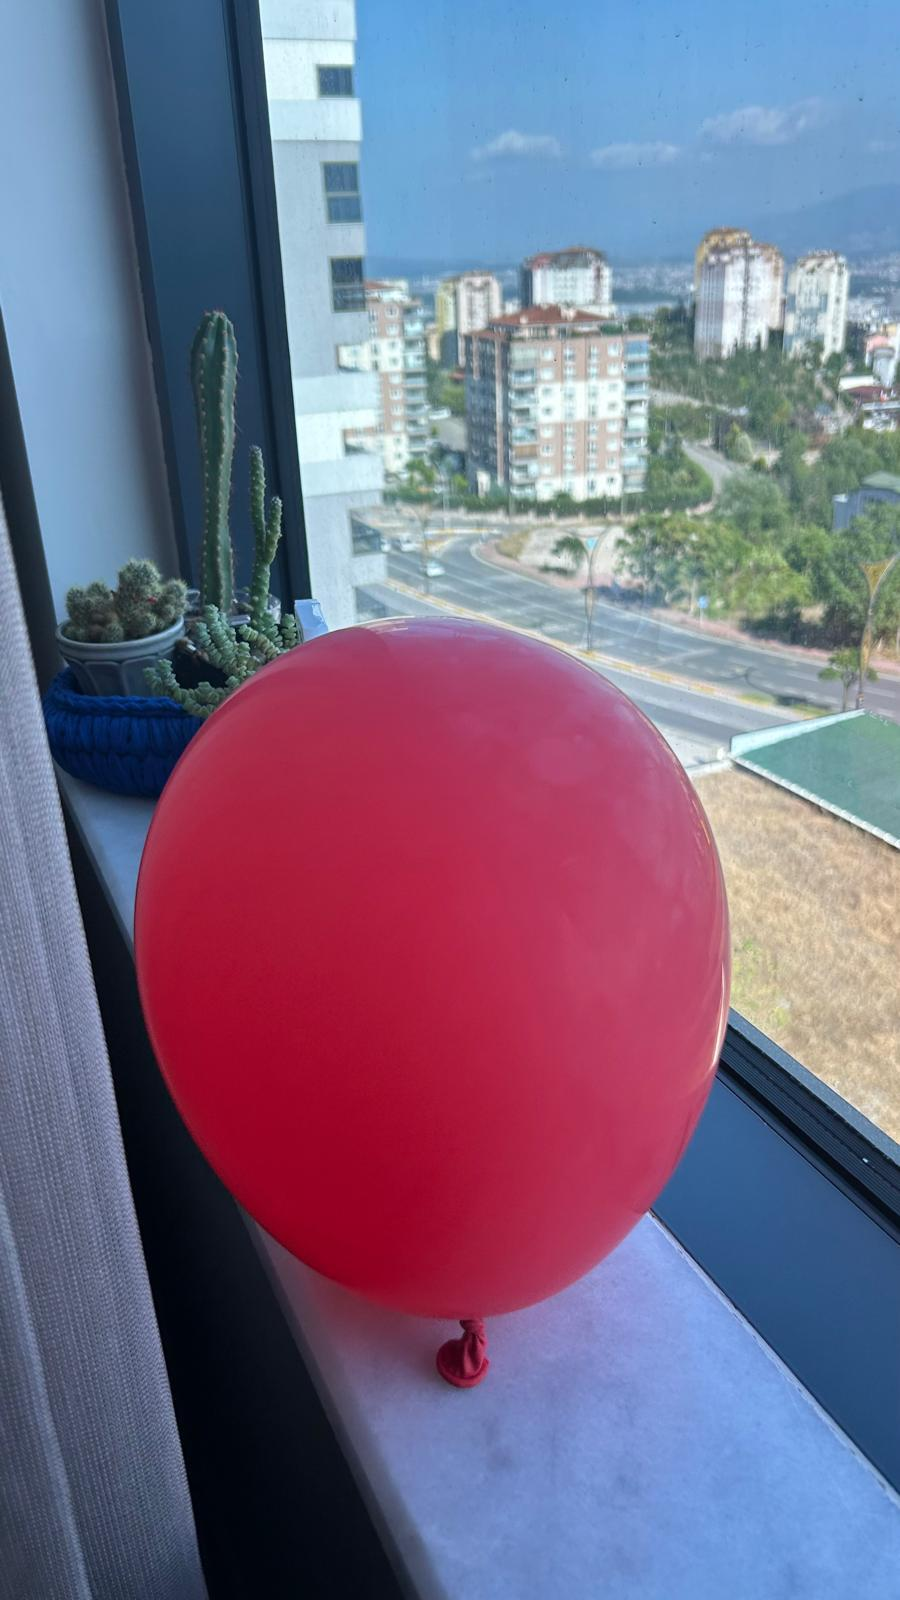red: (120, 610, 744, 1375)
